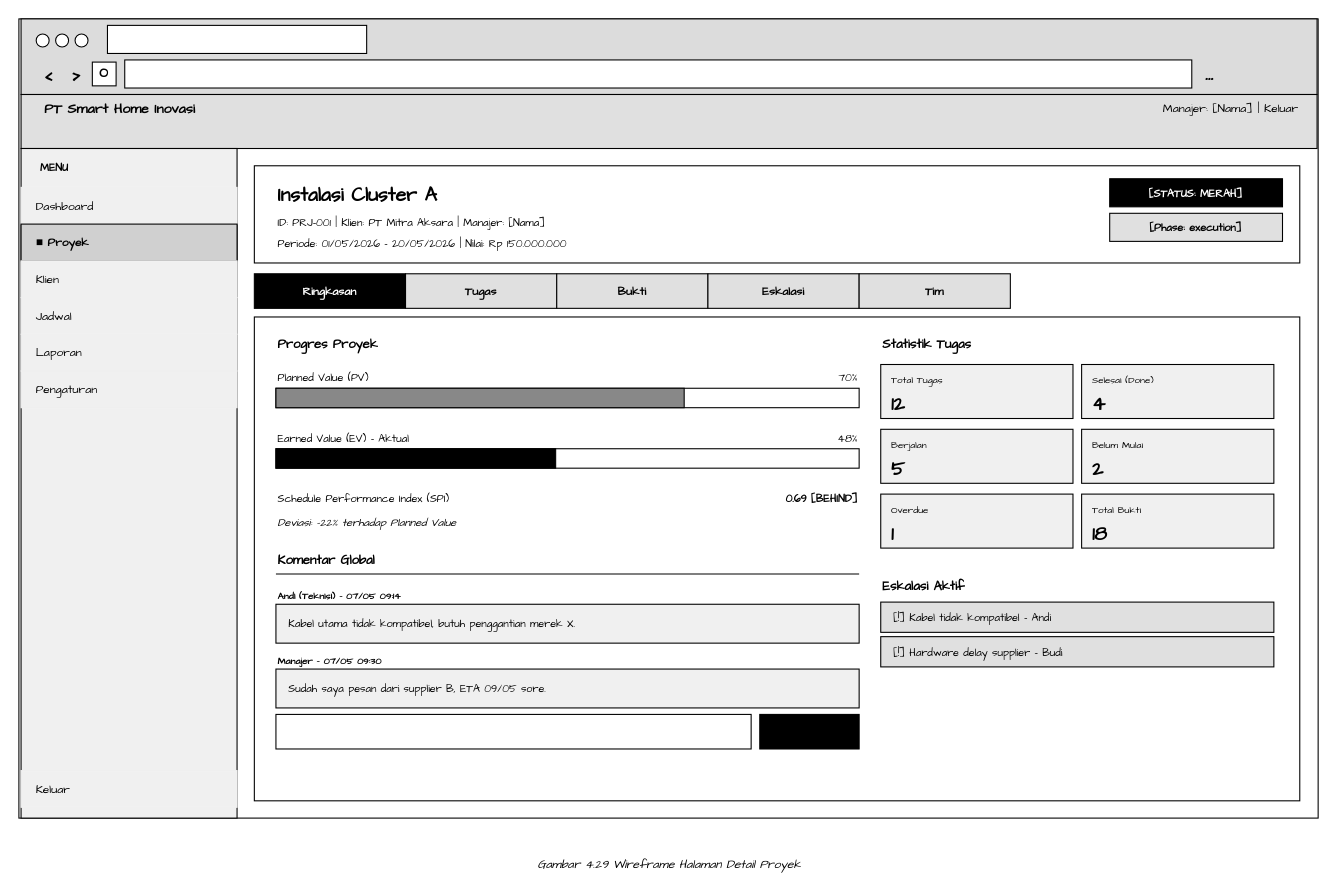
Some shapes in this 1337 by 891 pixel diagram are drawn without their labels. Each missing label, with the centre of its shape:
Detail Proyek - SHI: point (236, 38)
https://shi-crm.id/proyek/PRJ-001: point (658, 73)
Kirim: point (809, 731)
Tulis komentar...: point (513, 731)
